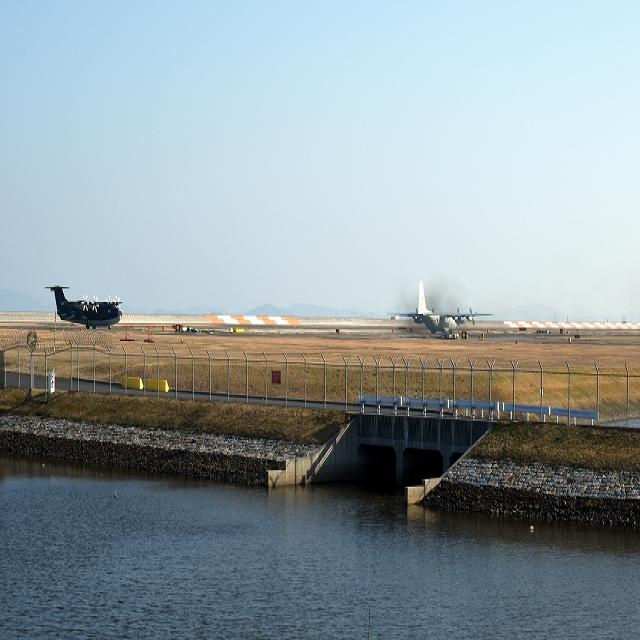MIL_Plane: (66, 281, 175, 333), (32, 284, 112, 330)
